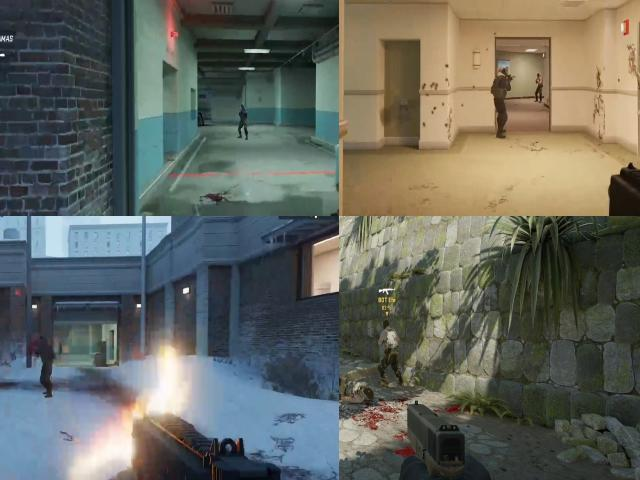CT: (493, 66, 511, 123), (34, 335, 51, 376), (237, 102, 248, 126)
CT-Head: (499, 66, 510, 80), (38, 338, 46, 350), (239, 103, 246, 114)
Dead: (339, 370, 373, 404)
T: (376, 314, 404, 387), (532, 70, 544, 100)
T-Head: (381, 316, 394, 332), (534, 72, 542, 82)
